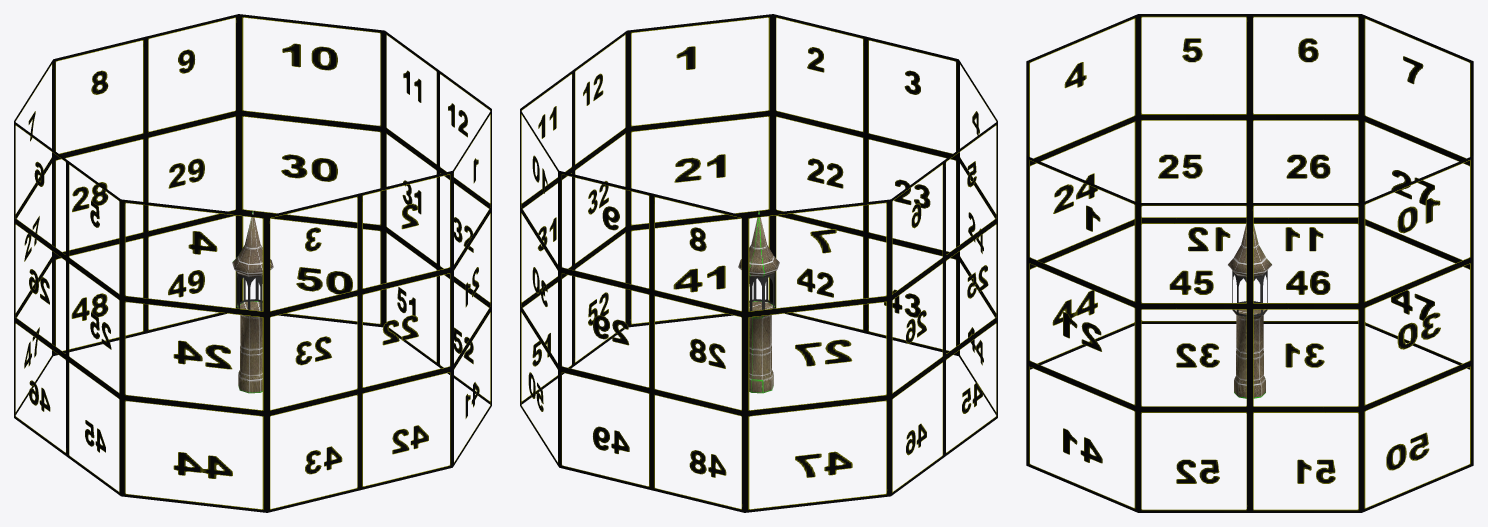
File: lantern_lit.obj
3 renders of one model, left to right at view 1: azimuth 30°, elevation 25°; view 2: azimuth 150°, elevation 25°; view 3: azimuth 270°, elevation 25°, orthographic. The views are drawn at different scales.
Visible parts, largest first — view 1: Plane002, Cone001; view 2: Plane002, Cone001; view 3: Plane002, Cone001.
Part boxes in pixels (bbox=[...]): Plane002: bbox=[14, 14, 491, 512]; Cone001: bbox=[232, 211, 273, 393]; Plane002: bbox=[520, 14, 997, 512]; Cone001: bbox=[738, 211, 779, 393]; Plane002: bbox=[1026, 14, 1473, 512]; Cone001: bbox=[1228, 223, 1271, 398].
Size of the model in its own units: 4014 by 3072 by 4014.
